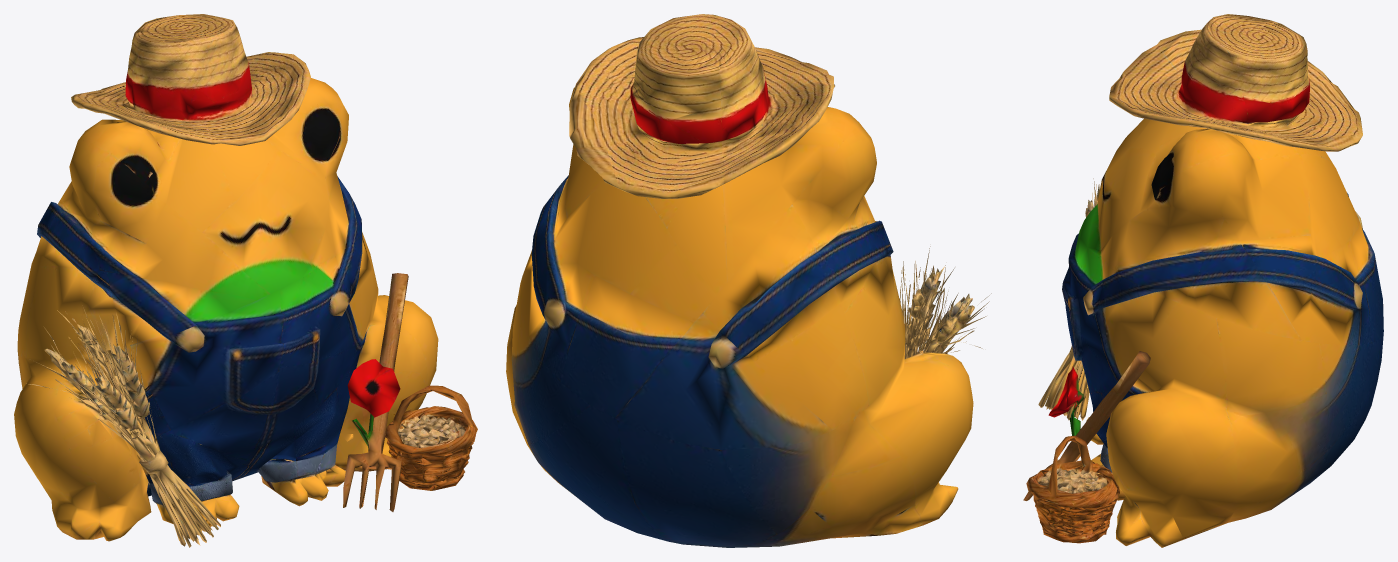
Rendered from fermiere.glb.
The picture shows the model from 3 angles, left to right: view 1: azimuth 30°, elevation 25°; view 2: azimuth 150°, elevation 25°; view 3: azimuth 270°, elevation 25°; orthographic projection. The views are drawn at different scales.
Visible parts, largest first — view 1: mesh_node; view 2: mesh_node; view 3: mesh_node.
Part boxes in pixels (x1,y1,x2,y2): mesh_node: [14, 14, 477, 547]; mesh_node: [506, 14, 991, 547]; mesh_node: [1023, 14, 1383, 547].
Bounding box in the file's own units: 1.89 × 1.9 × 1.44.
1 material, 1 textured.
